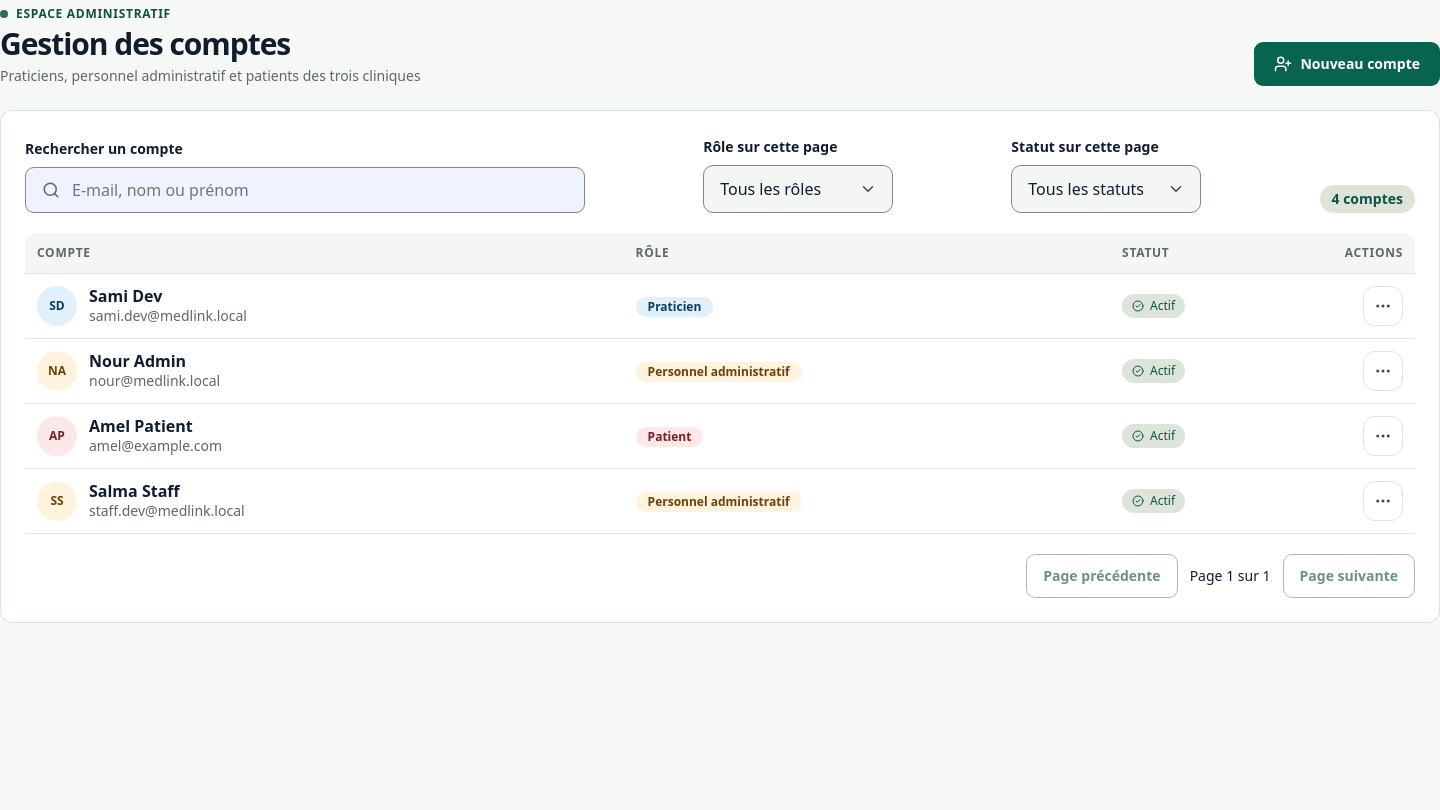
Test: when the profile lists cannot be loaded, the dialog says so and "Réessayer" brings the fields back
Click the button "Nouveau compte".
click(1347, 64)  # box [1254,42,1439,86]
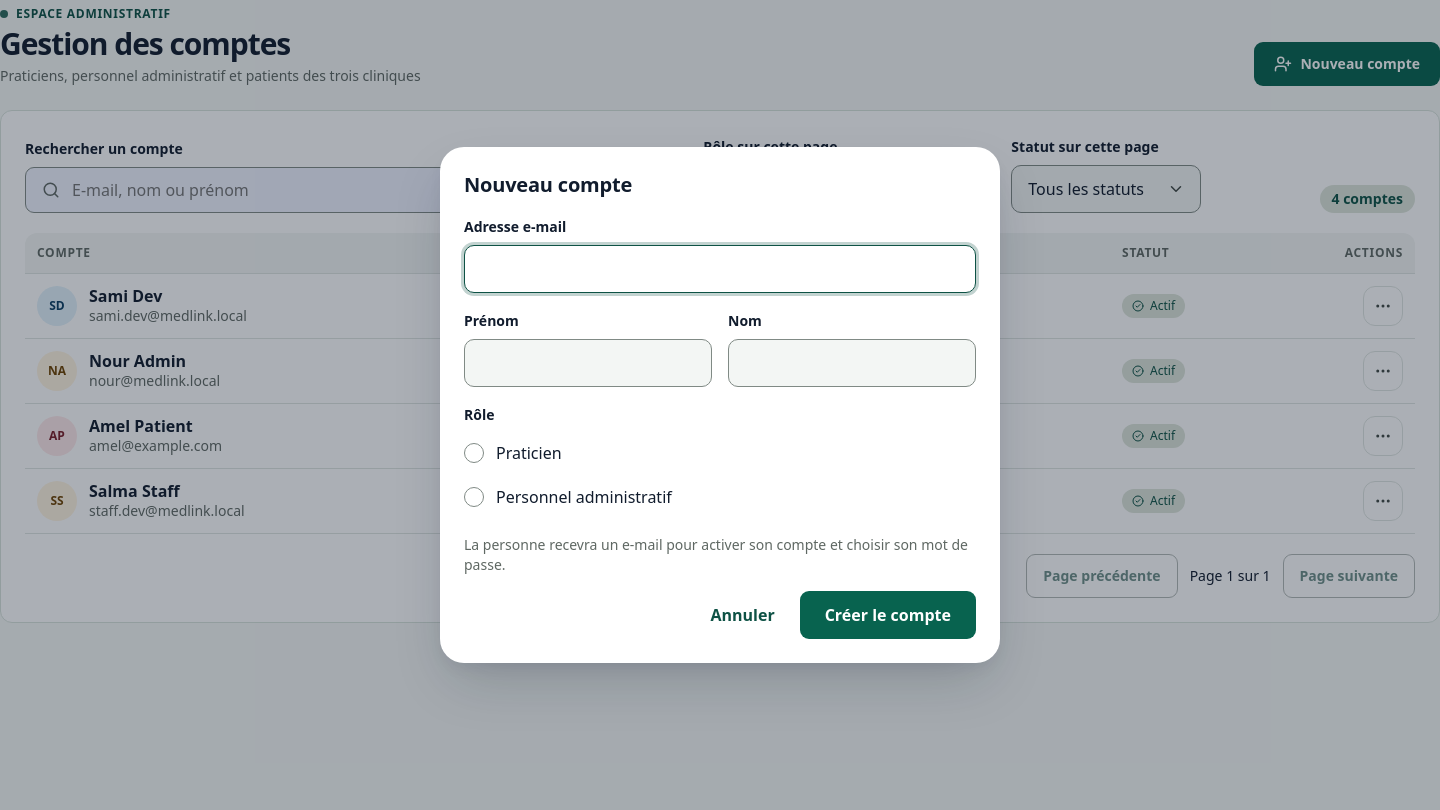
Click the radio button labelled "Praticien".
click(474, 453)  # box [464,443,484,463]
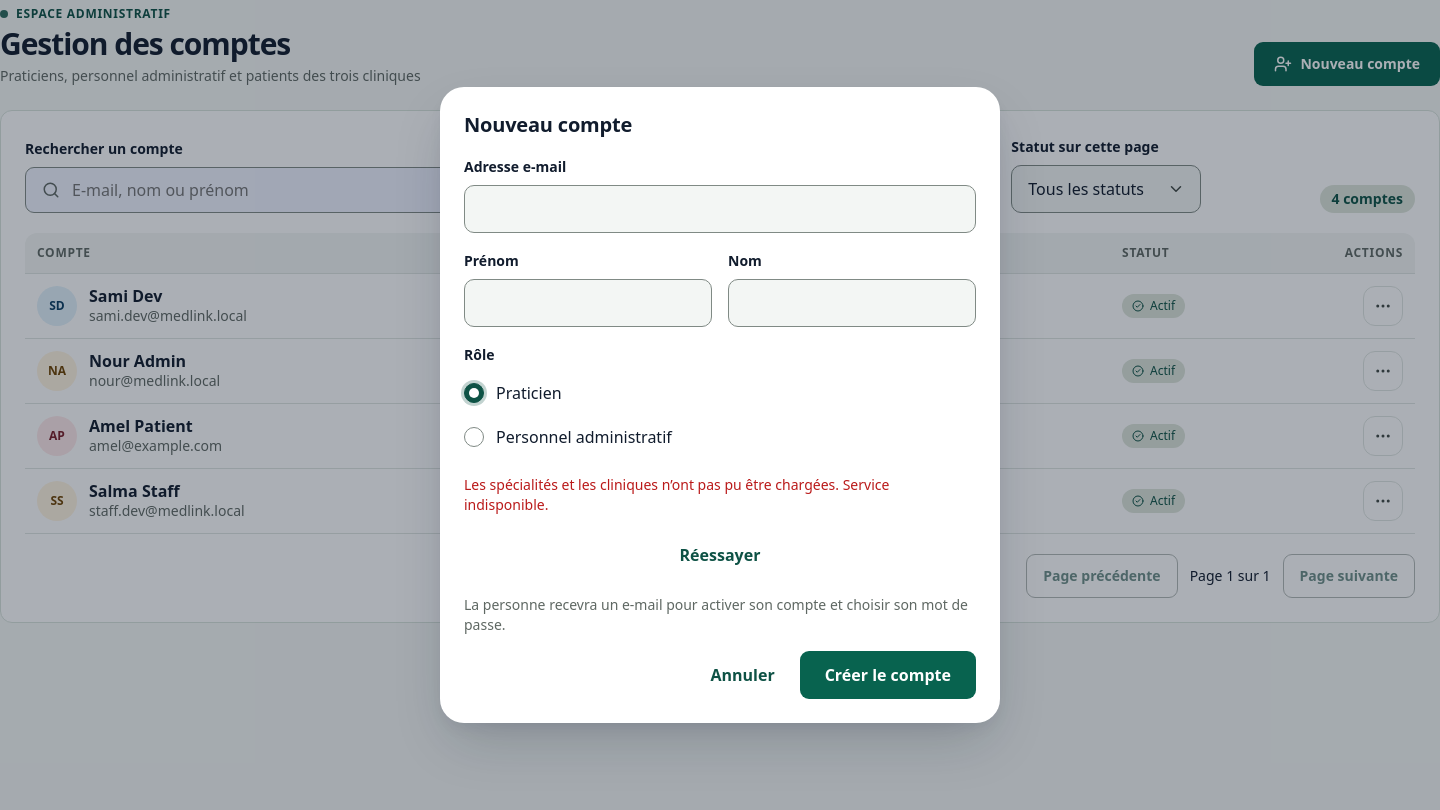
Check: the message shows "n’ont pas pu être chargées", box [464,475,843,494]
Click the button "Réessayer".
click(720, 555)  # box [464,531,976,579]
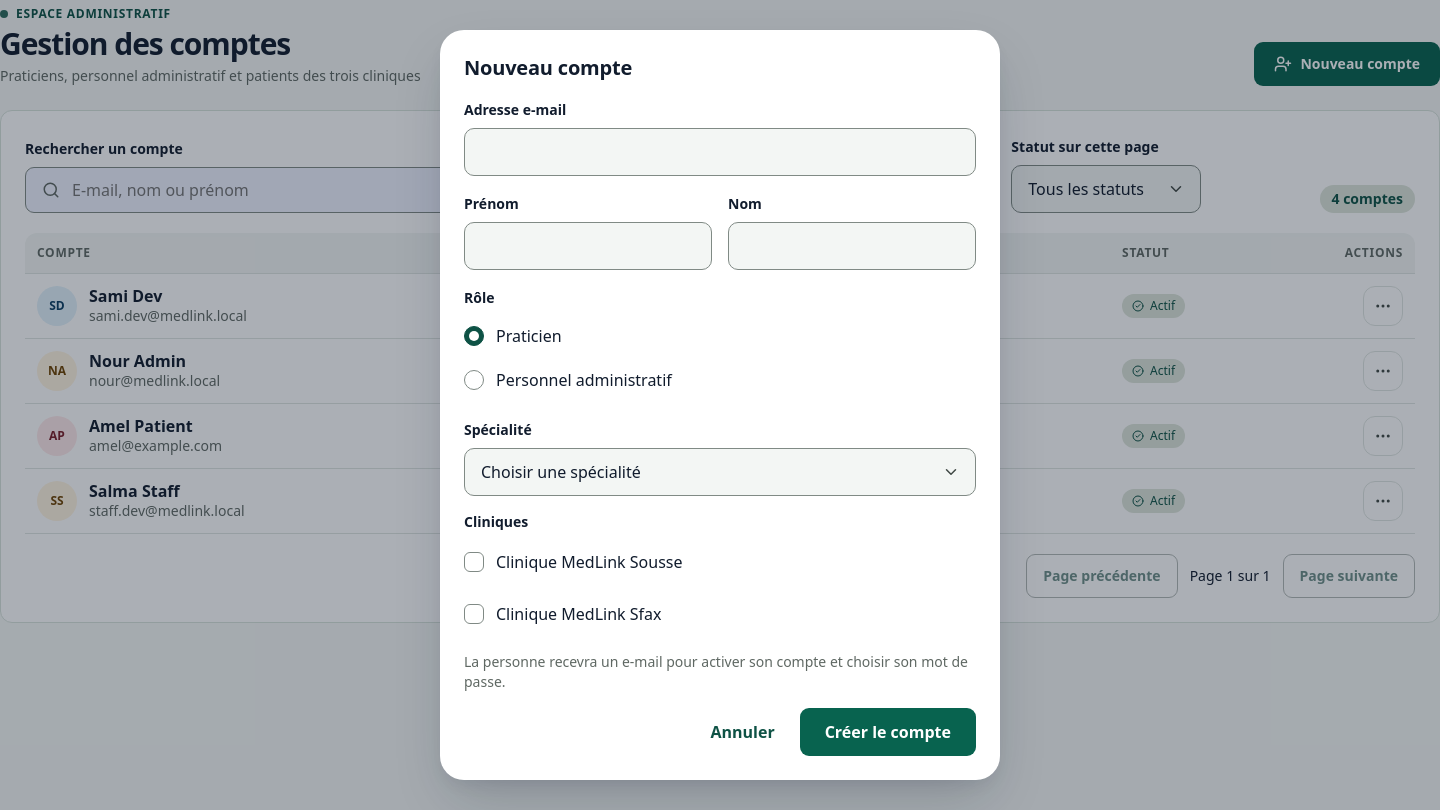
Check: the dropdown labelled "Spécialité" is shown, box [464,448,976,496]
Check: the checkbox labelled "Clinique MedLink Sfax" is shown, box [464,604,484,624]
